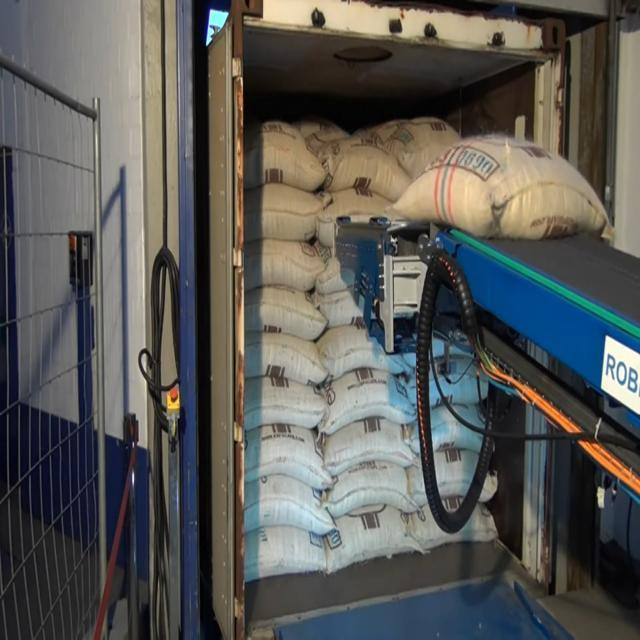gunny_bag: (394, 136, 614, 238), (324, 504, 422, 573), (319, 367, 417, 435), (356, 116, 460, 177), (319, 136, 412, 201), (244, 120, 327, 191), (245, 424, 332, 490), (245, 474, 335, 535), (323, 417, 416, 476), (322, 461, 417, 518), (316, 324, 410, 378), (244, 182, 326, 241), (245, 526, 327, 582), (244, 376, 328, 430), (245, 285, 328, 339), (245, 331, 328, 384), (244, 238, 325, 290)
